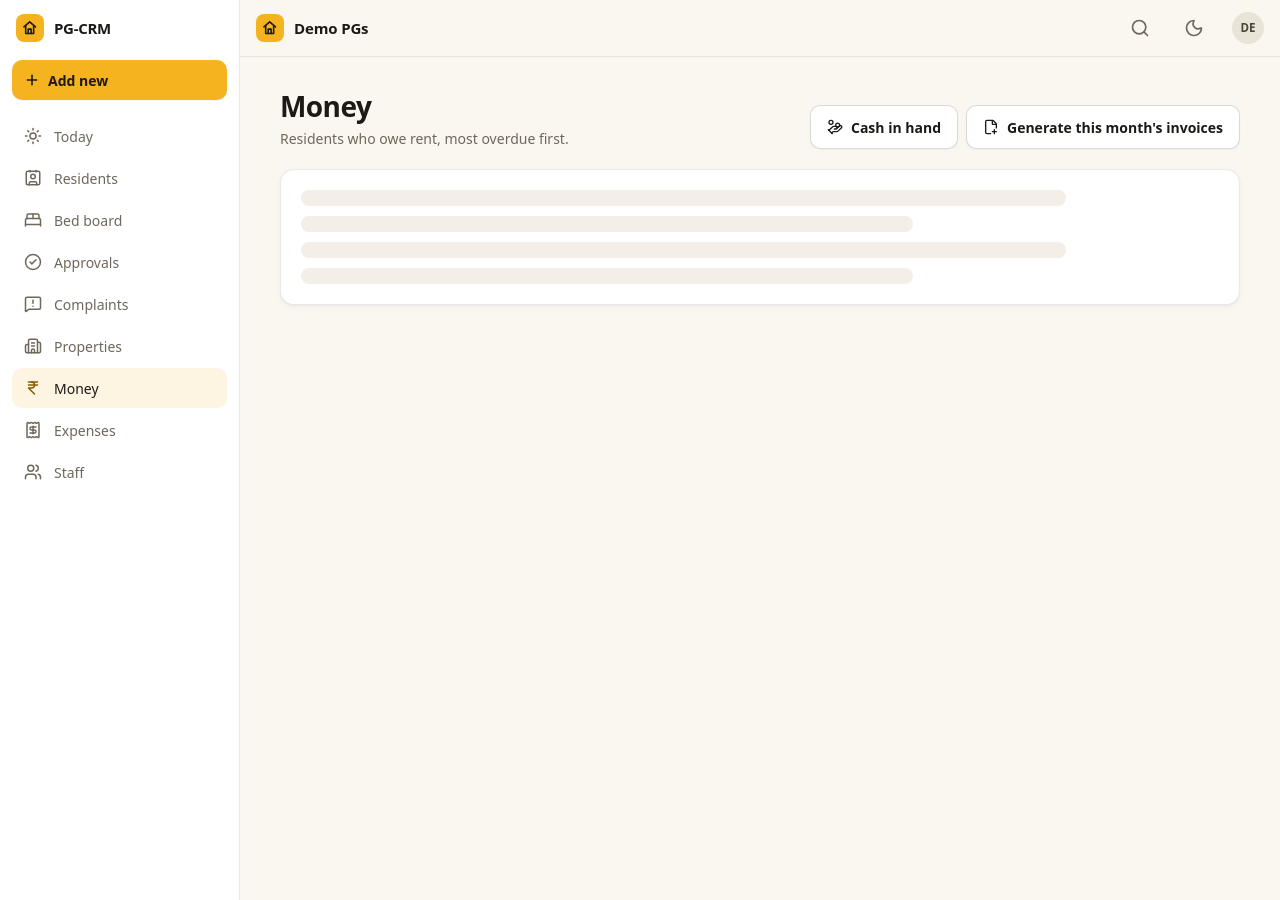
Test: Owner generate invoices › [FE-30/AC3] a failed generate shows the API message
The image size is (1280, 900).
Click the button "Generate this month's invoices" at (1103, 127), box [966,105,1240,149]
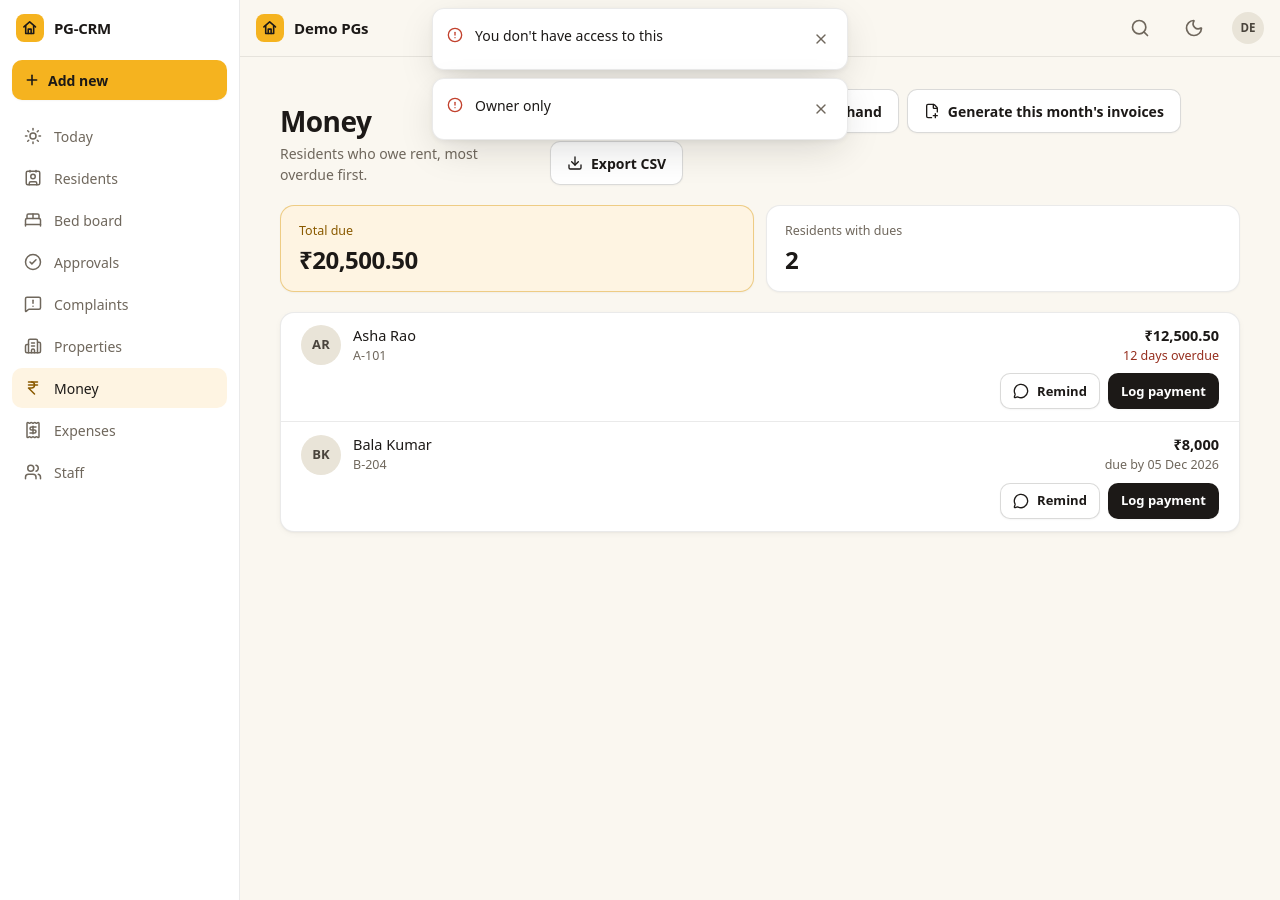
Expected: the text "Owner only" is shown, [475,96,551,115]
